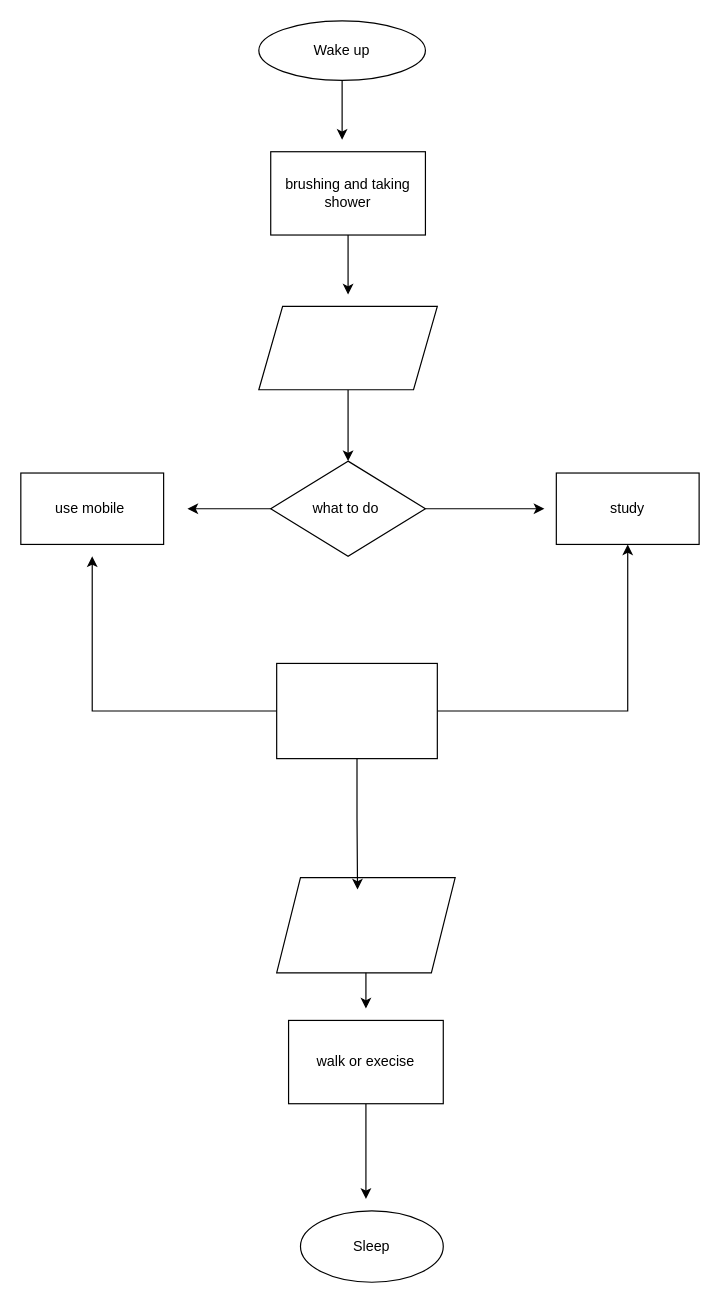
Some shapes in this 720 by 1303 pixel diagram are drawn without their labels. The shapes that lost their labels are listed below. From the top down, each one's box as (x1, y1, x2, y2) in pixels, then its label:
(258, 305, 437, 390): performing morning prayer
(275, 662, 437, 759): evening prayer
(275, 876, 455, 973): Lunch
